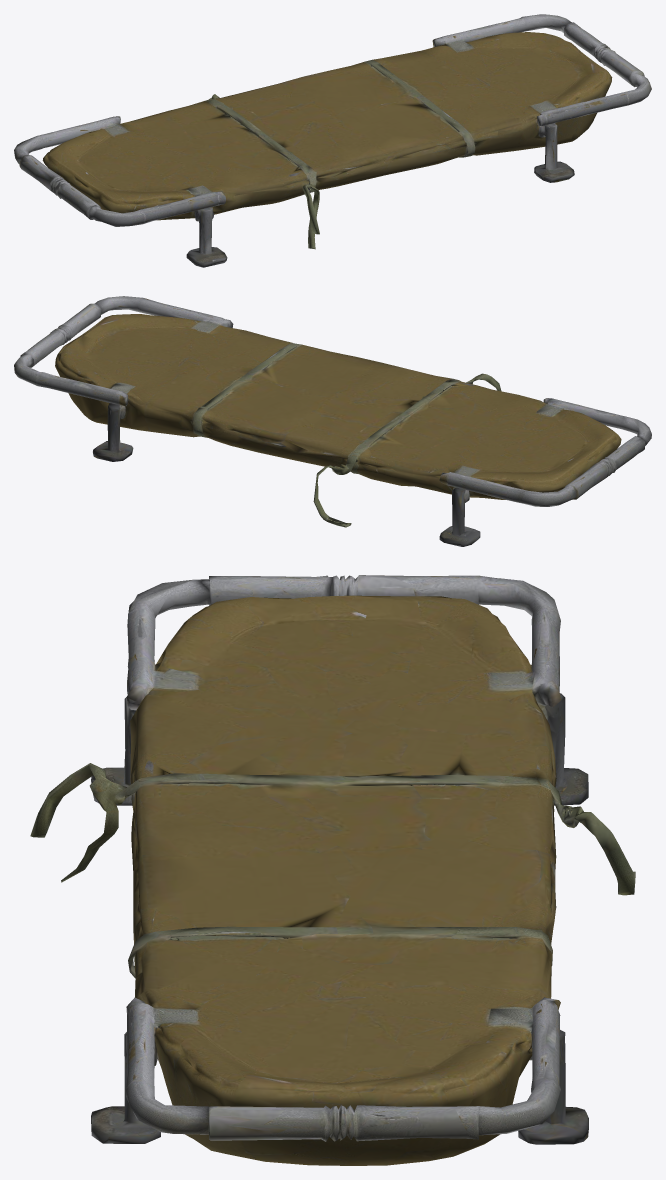
File: sedye.glb
The picture shows the model from 3 angles, top to bottom: view 1: azimuth 30°, elevation 25°; view 2: azimuth 150°, elevation 25°; view 3: azimuth 270°, elevation 25°; orthographic projection. The views are drawn at different scales.
Visible parts, largest first — view 1: kok; view 2: kok; view 3: kok.
Boxes of the visible parts, <box> form: kok: <box>14,14,651,267</box>; kok: <box>14,296,651,546</box>; kok: <box>30,575,635,1165</box>.
Size of the model in its own units: 2.2 by 0.2389 by 1.03.
Materials: 1 (1 with a texture image).
